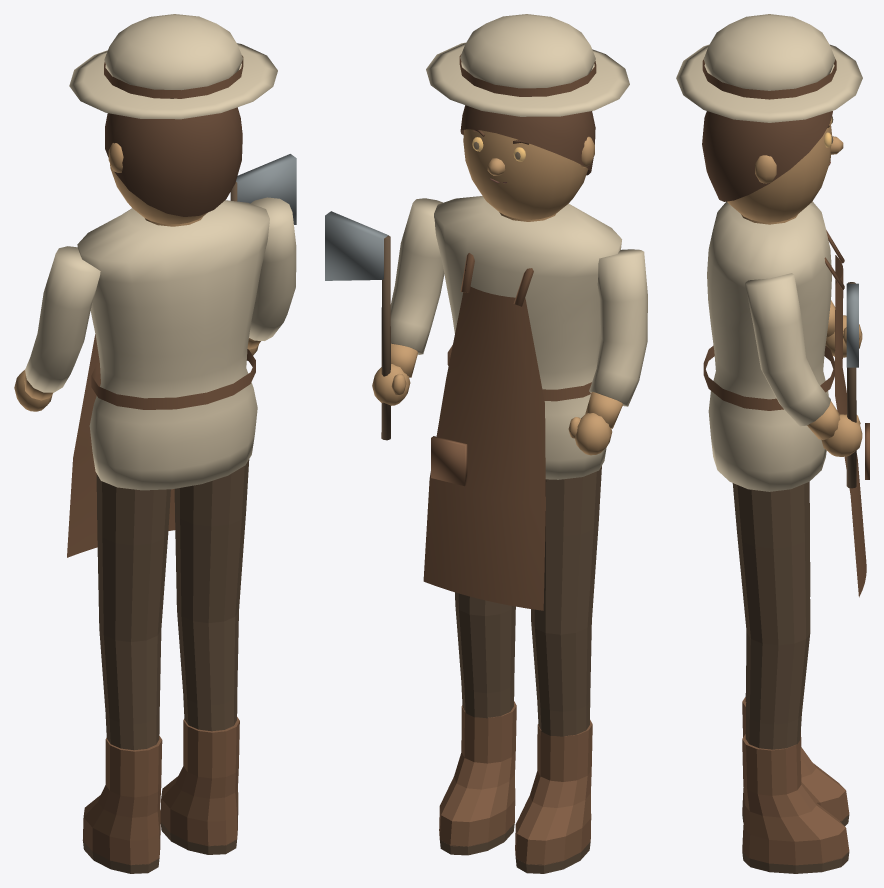
The model's file is SM_NPC_CARP.glb.
The picture shows the model from 3 angles, left to right: view 1: azimuth 30°, elevation 25°; view 2: azimuth 150°, elevation 25°; view 3: azimuth 270°, elevation 25°; orthographic projection. The views are drawn at different scales.
Visible parts, largest first — view 1: SM_NPC_CARP_BODY, SM_NPC_CARP_HAIR, SM_NPC_CARP_LEG_L, SM_NPC_CARP_LEG_R, SM_NPC_CARP_ARM_L, SM_NPC_CARP_ARM_R, SM_NPC_CARP_HEAD; view 2: SM_NPC_CARP_BODY, SM_NPC_CARP_LEG_L, SM_NPC_CARP_HAIR, SM_NPC_CARP_LEG_R, SM_NPC_CARP_ARM_R, SM_NPC_CARP_ARM_L, SM_NPC_CARP_HEAD; view 3: SM_NPC_CARP_BODY, SM_NPC_CARP_LEG_R, SM_NPC_CARP_HAIR, SM_NPC_CARP_ARM_R, SM_NPC_CARP_HEAD, SM_NPC_CARP_LEG_L, SM_NPC_CARP_ARM_L.
Part boxes in pixels (left/top/right/bottom): SM_NPC_CARP_BODY: left=67, top=200, right=269, bottom=557; SM_NPC_CARP_HAIR: left=69, top=14, right=277, bottom=216; SM_NPC_CARP_LEG_L: left=82, top=474, right=170, bottom=873; SM_NPC_CARP_LEG_R: left=160, top=459, right=249, bottom=854; SM_NPC_CARP_ARM_L: left=14, top=246, right=100, bottom=411; SM_NPC_CARP_ARM_R: left=230, top=154, right=296, bottom=355; SM_NPC_CARP_HEAD: left=108, top=126, right=241, bottom=224; SM_NPC_CARP_BODY: left=423, top=196, right=621, bottom=610; SM_NPC_CARP_LEG_L: left=515, top=466, right=601, bottom=873; SM_NPC_CARP_HAIR: left=426, top=14, right=629, bottom=175; SM_NPC_CARP_LEG_R: left=439, top=592, right=516, bottom=855; SM_NPC_CARP_ARM_R: left=325, top=198, right=444, bottom=440; SM_NPC_CARP_ARM_L: left=568, top=249, right=647, bottom=455; SM_NPC_CARP_HEAD: left=463, top=129, right=594, bottom=219; SM_NPC_CARP_BODY: left=703, top=201, right=869, bottom=597; SM_NPC_CARP_LEG_R: left=732, top=482, right=849, bottom=873; SM_NPC_CARP_HAIR: left=676, top=14, right=862, bottom=201; SM_NPC_CARP_ARM_R: left=745, top=273, right=862, bottom=488; SM_NPC_CARP_HEAD: left=727, top=122, right=843, bottom=222; SM_NPC_CARP_LEG_L: left=742, top=482, right=849, bottom=825; SM_NPC_CARP_ARM_L: left=825, top=300, right=862, bottom=357.
Bounding box in the file's own units: 0.6861 × 1.89 × 0.4052.
